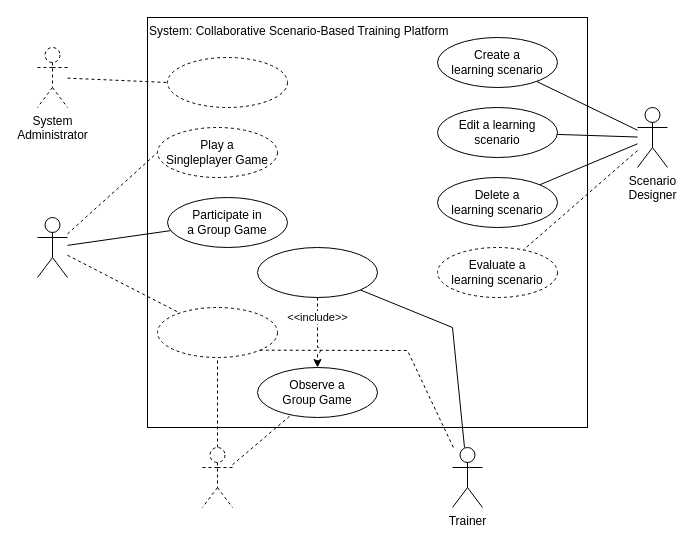
The diagram is 694 pixels wide and 546 high, and some of its shapes have lost their labels. The box of each missing label's shape, as (x1, y1, x2, y2) in pixels:
Change User Roles: (166, 56, 288, 108)
Evaluate a Group Game: (156, 306, 278, 358)
Facilitate a Group Game: (256, 246, 378, 298)
Observer: (202, 446, 232, 508)
Participant: (36, 216, 68, 278)
